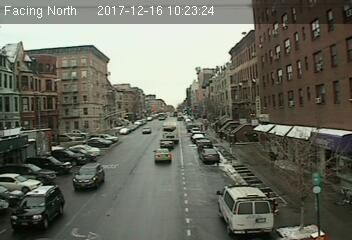bus: (161, 121, 179, 140)
car: (9, 184, 65, 232), (72, 163, 105, 190), (200, 147, 219, 162), (154, 147, 171, 163), (159, 138, 174, 149), (142, 125, 151, 135)
police: (216, 181, 275, 237)
